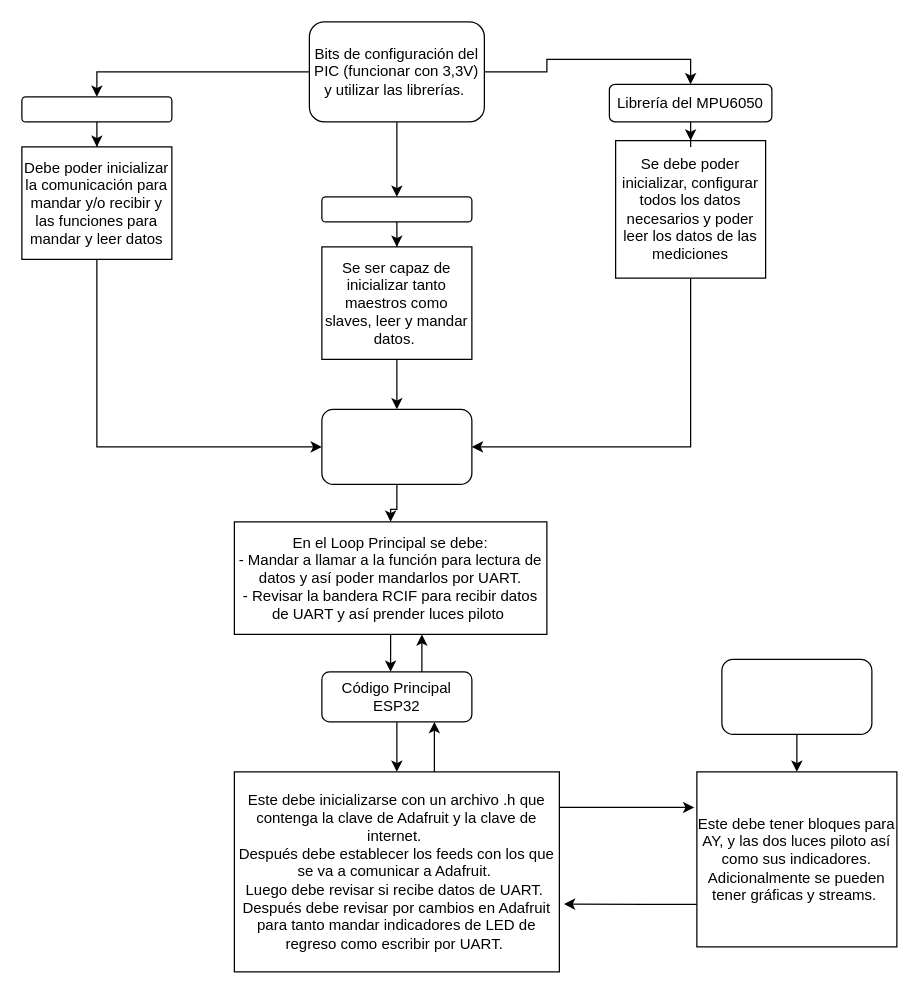
Some shapes in this 919 by 994 pixel diagram are drawn without their labels. Each missing label, with the box of its shape:
Código Principal PIC: (321, 408, 472, 484)
Dashboard Adafruit: (721, 658, 872, 734)
Librería I2C: (321, 196, 472, 222)
Librería UART: (21, 96, 172, 122)
